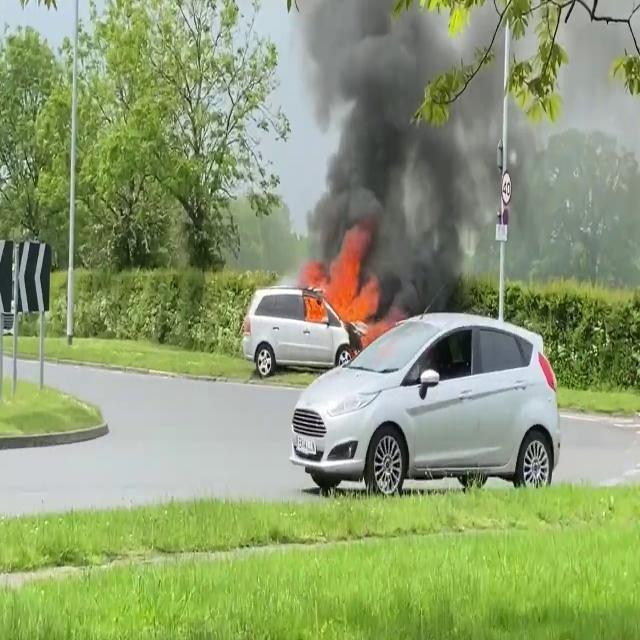Fire: (301, 236, 384, 326)
Smoke: (283, 3, 567, 289)
